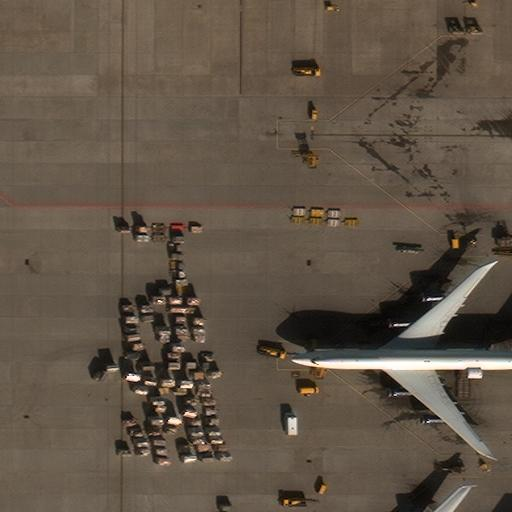Large Civil Transport: (291, 266, 511, 455)
